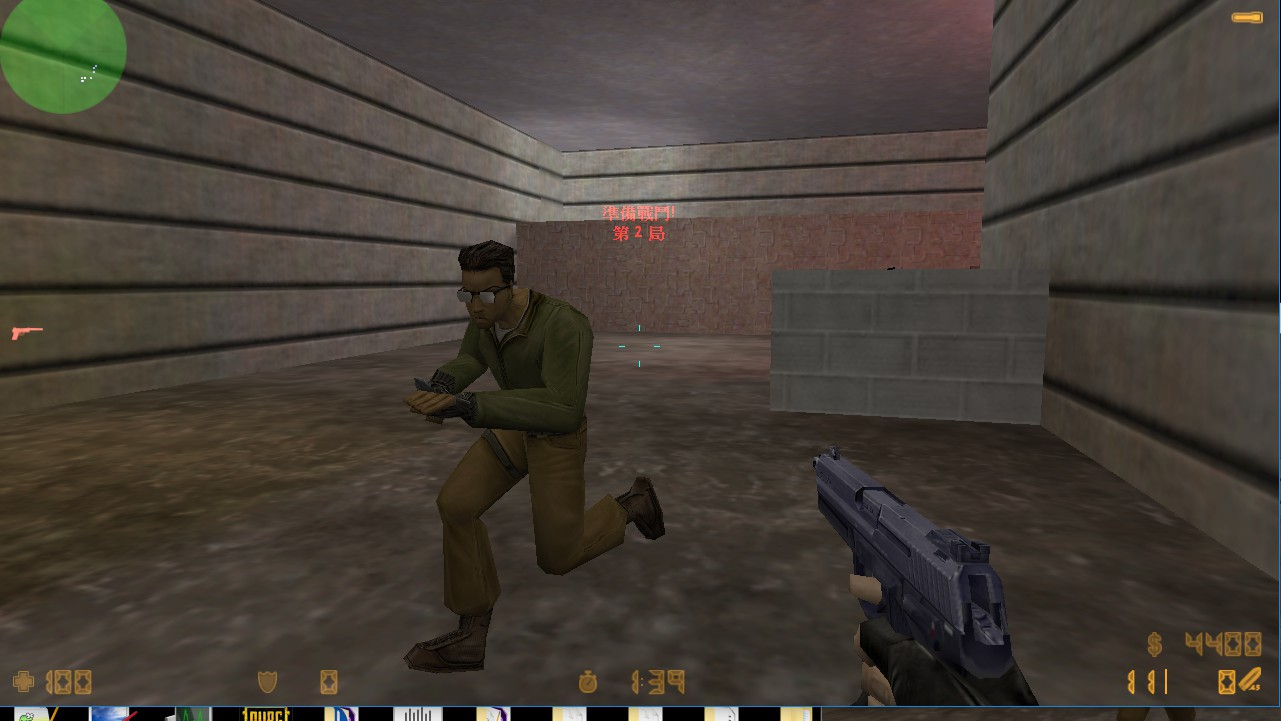person: (421, 236, 635, 650)
